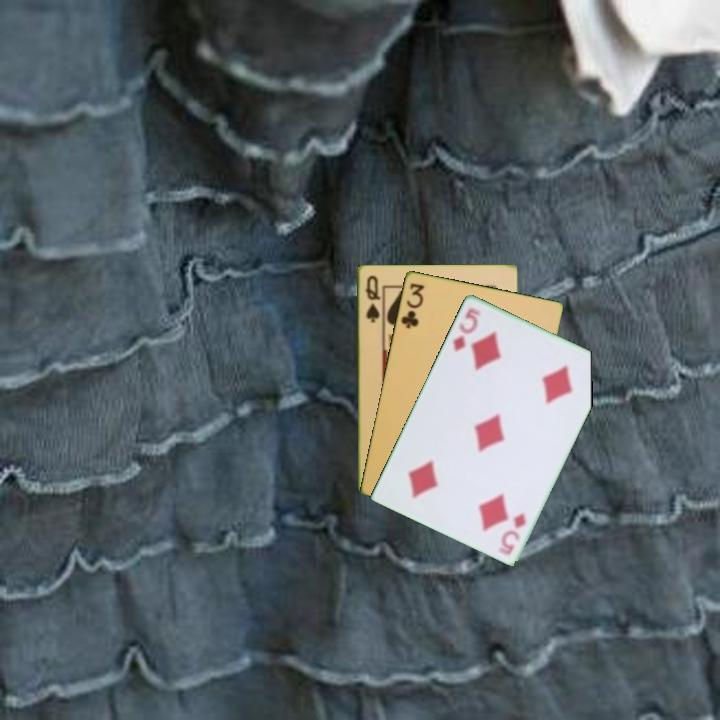3c: (397, 279, 427, 331)
5d: (449, 304, 483, 355), (495, 508, 529, 558)
Qs: (362, 272, 382, 325)
